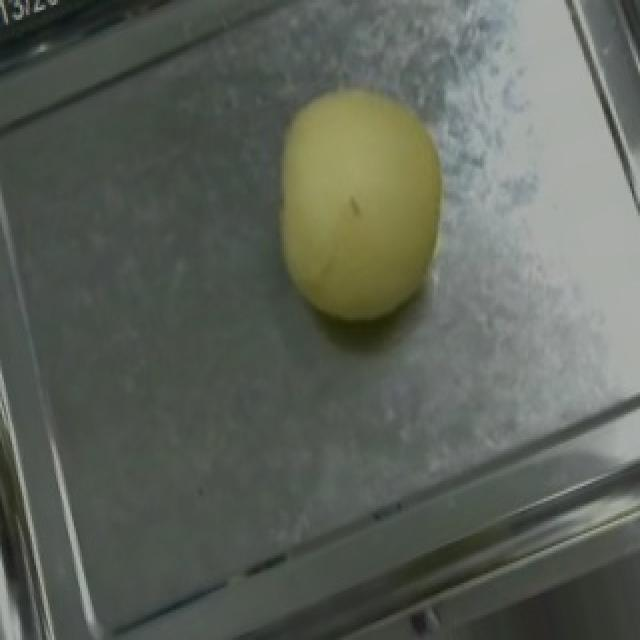Fruit: (232, 47, 488, 357)
